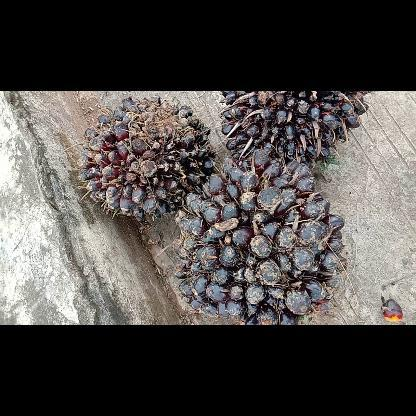TBS mentah: (174, 150, 352, 324), (74, 94, 218, 224), (216, 90, 376, 166)
